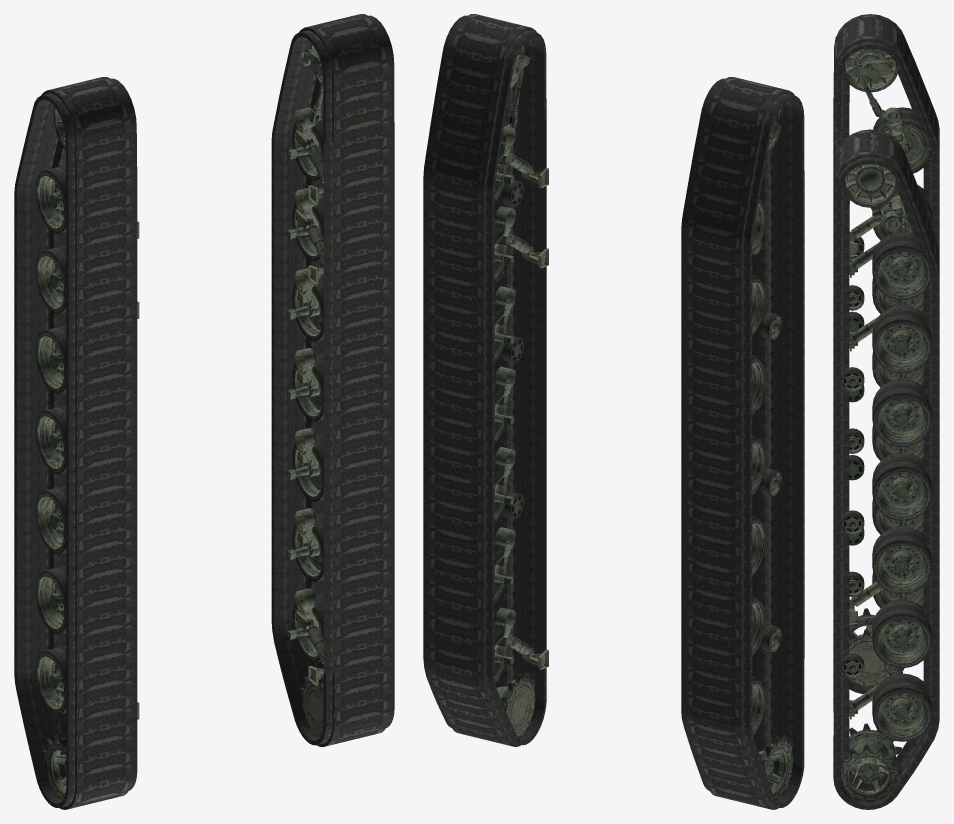
The model's file is Chassis.glb.
3 views of the same model, side by side, from view 1: azimuth 30°, elevation 25°; view 2: azimuth 150°, elevation 25°; view 3: azimuth 270°, elevation 25° (orthographic). The views are drawn at different scales.
Visible parts, largest first — view 1: set_0_group_0, set_1_group_0, set_3_group_0, set_2_group_0; view 2: set_0_group_0, set_1_group_0, set_3_group_0, set_2_group_0; view 3: set_3_group_0, set_1_group_0, set_2_group_0, set_0_group_0.
Boxes of the visible parts, bbox=[...] form: set_0_group_0: bbox=[14, 77, 137, 809]; set_1_group_0: bbox=[271, 14, 394, 747]; set_3_group_0: bbox=[286, 43, 323, 737]; set_2_group_0: bbox=[35, 106, 139, 800]; set_0_group_0: bbox=[681, 77, 804, 809]; set_1_group_0: bbox=[423, 14, 546, 746]; set_3_group_0: bbox=[494, 43, 548, 737]; set_2_group_0: bbox=[752, 106, 792, 800]; set_3_group_0: bbox=[840, 164, 932, 801]; set_1_group_0: bbox=[833, 129, 939, 809]; set_2_group_0: bbox=[842, 48, 932, 686]; set_0_group_0: bbox=[833, 14, 939, 693].
Size of the model in its own units: 3.32 by 6.95 by 1.02.
4 materials, 4 textured.
